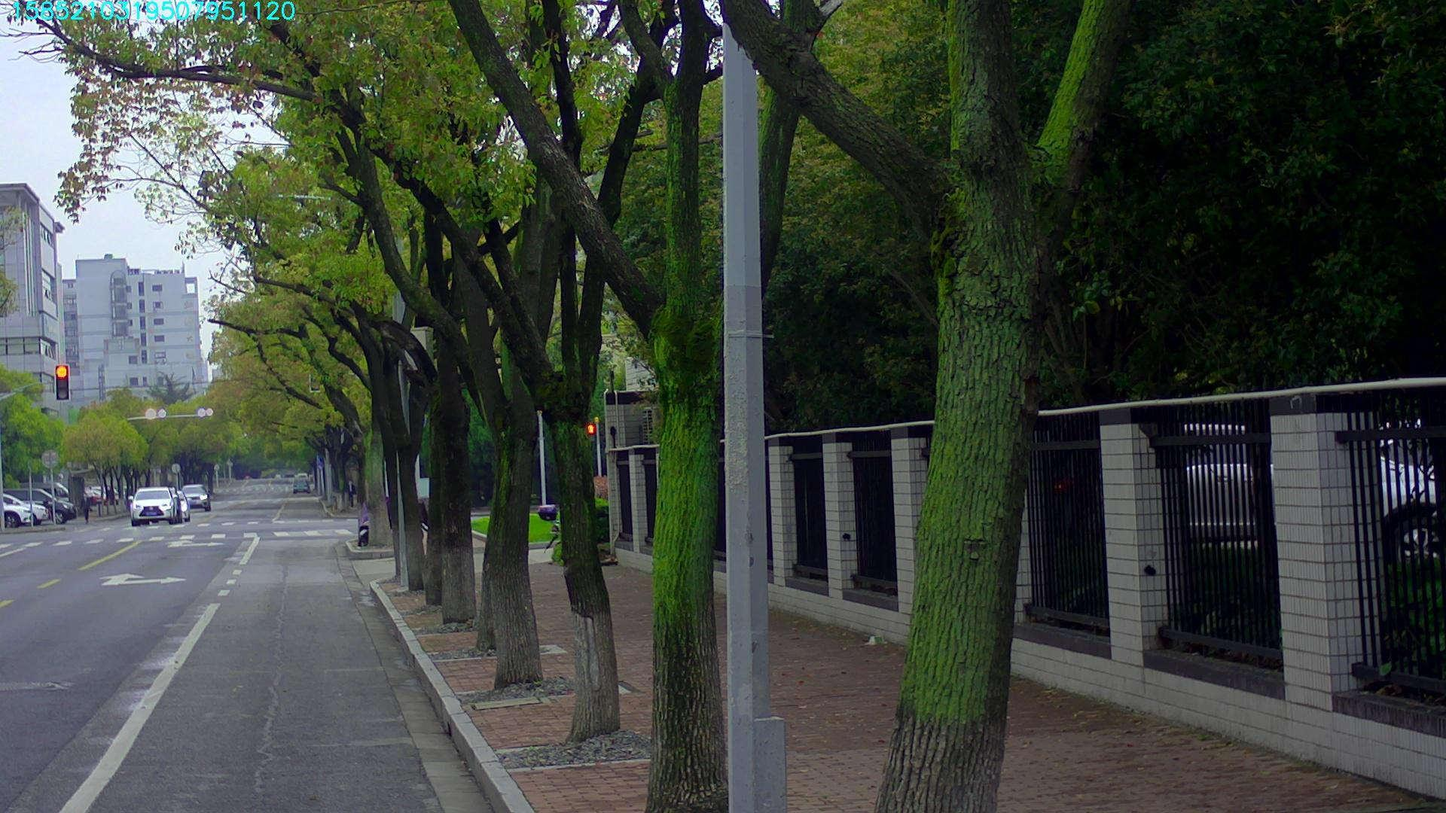red: (56, 364, 67, 397)
